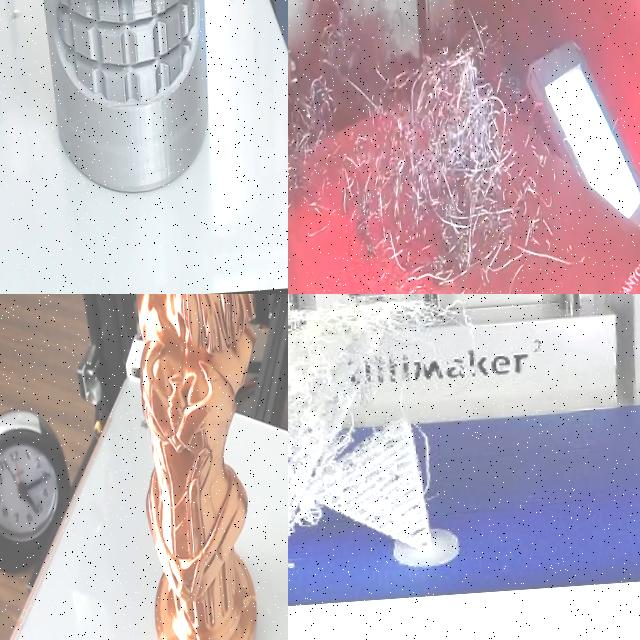spaghetti: (288, 297, 624, 566), (288, 0, 592, 294), (288, 564, 306, 599)
